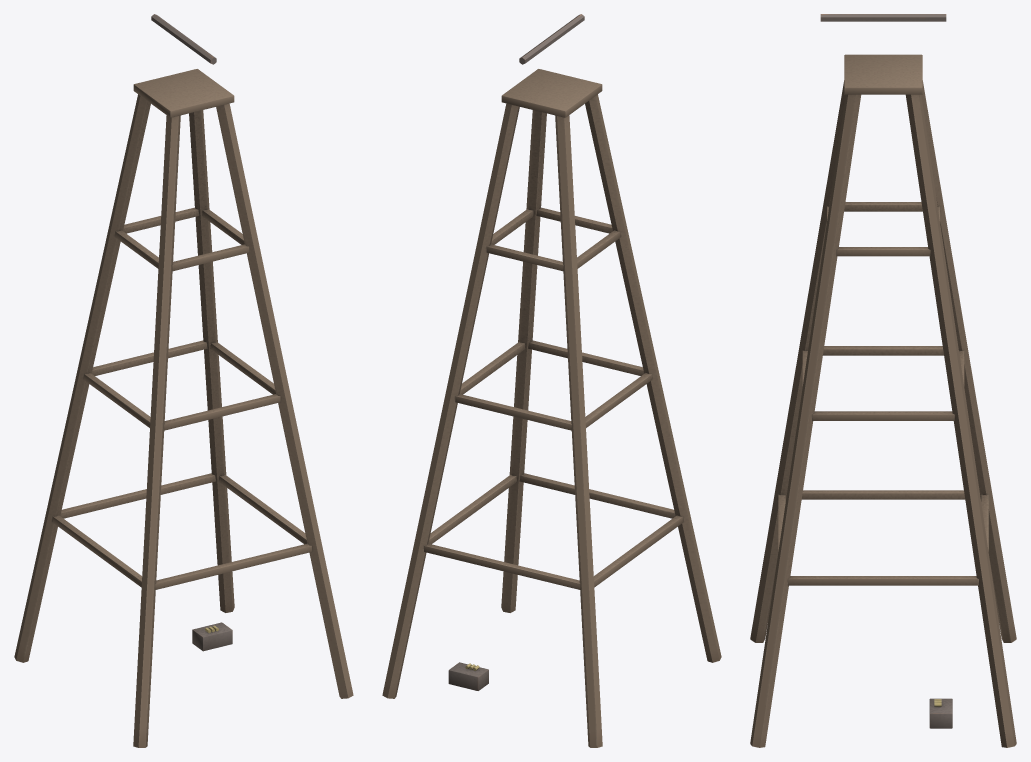
The model's file is triangulation_tower.glb.
3 renders of one model, left to right at view 1: azimuth 30°, elevation 25°; view 2: azimuth 150°, elevation 25°; view 3: azimuth 270°, elevation 25°, orthographic. The views are drawn at different scales.
Visible parts, largest first — view 1: triangulation_tower; view 2: triangulation_tower; view 3: triangulation_tower.
Part boxes in pixels (box(x1,y1,x2,y2)): triangulation_tower: box(14, 14, 353, 747); triangulation_tower: box(382, 14, 721, 747); triangulation_tower: box(750, 14, 1016, 747).
Size of the model in its own units: 2.54 by 7.15 by 2.54.
1 material, 1 textured.
